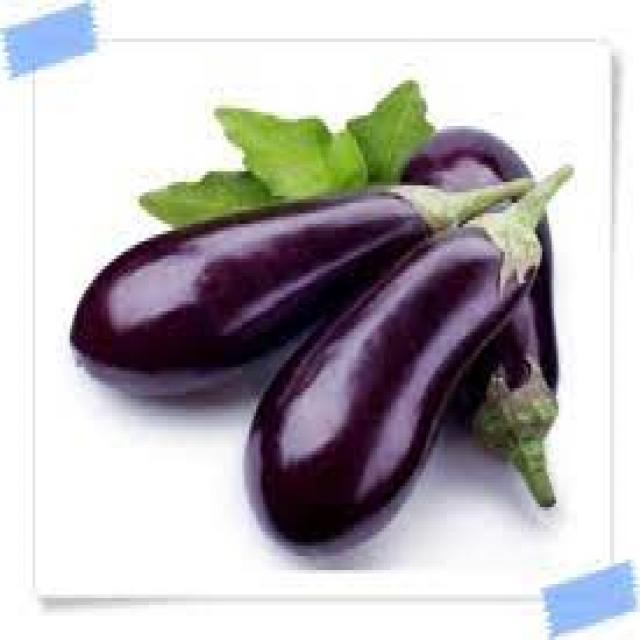Eggplant: (242, 164, 575, 559), (69, 177, 535, 399)
